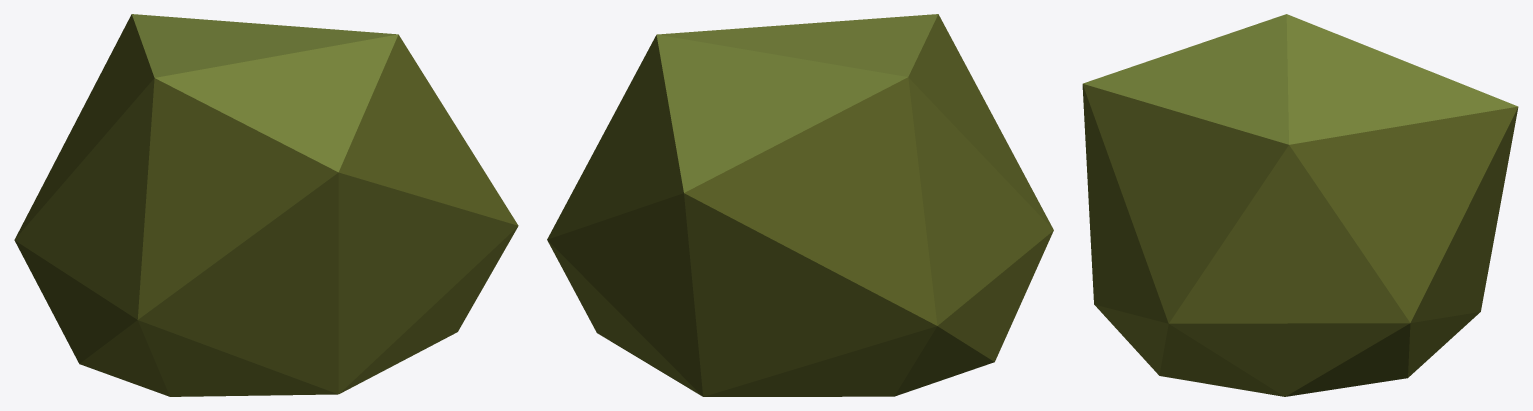
The model's file is TB_D_Env_GrassE_A.FBX.
The picture shows the model from 3 angles, left to right: view 1: azimuth 30°, elevation 25°; view 2: azimuth 150°, elevation 25°; view 3: azimuth 270°, elevation 25°; orthographic projection. The views are drawn at different scales.
Visible parts, largest first — view 1: TB_D_Env_GrassE_A; view 2: TB_D_Env_GrassE_A; view 3: TB_D_Env_GrassE_A.
Boxes of the visible parts, left/top/right/bottom form: TB_D_Env_GrassE_A: left=14, top=14, right=518, bottom=396; TB_D_Env_GrassE_A: left=547, top=14, right=1053, bottom=396; TB_D_Env_GrassE_A: left=1082, top=14, right=1518, bottom=396.
Bounding box in the file's own units: 1.62 × 1.05 × 1.65.
